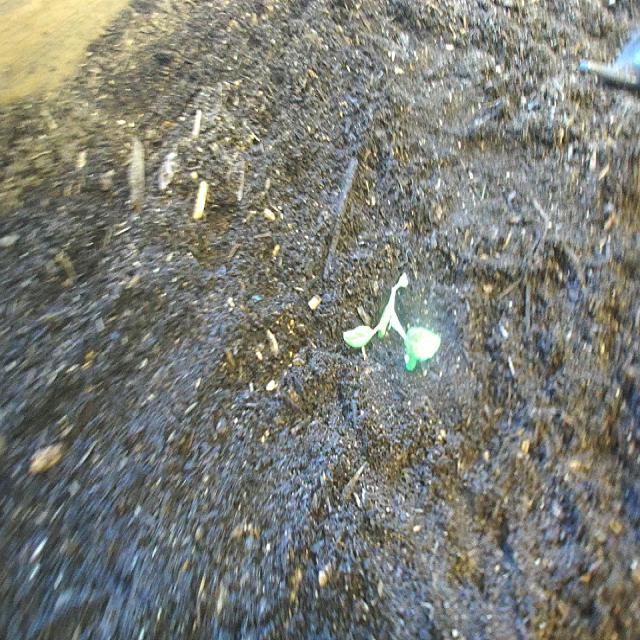Unhealthy: (341, 255, 450, 392)
